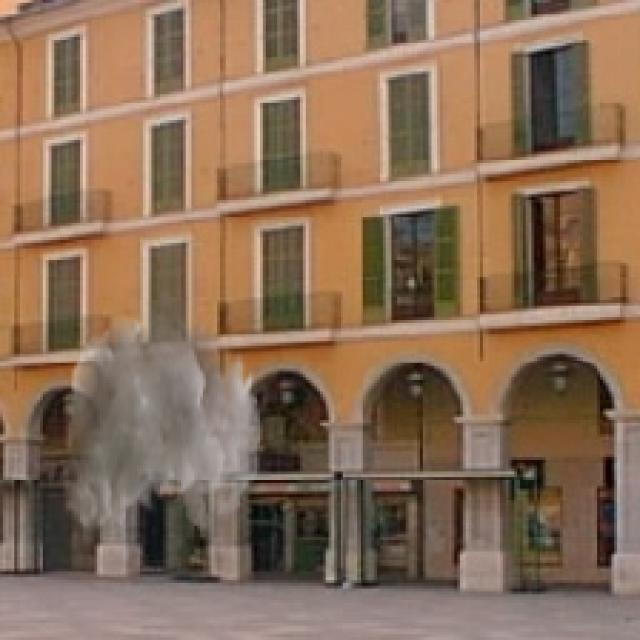Smoke: (60, 286, 263, 540)
